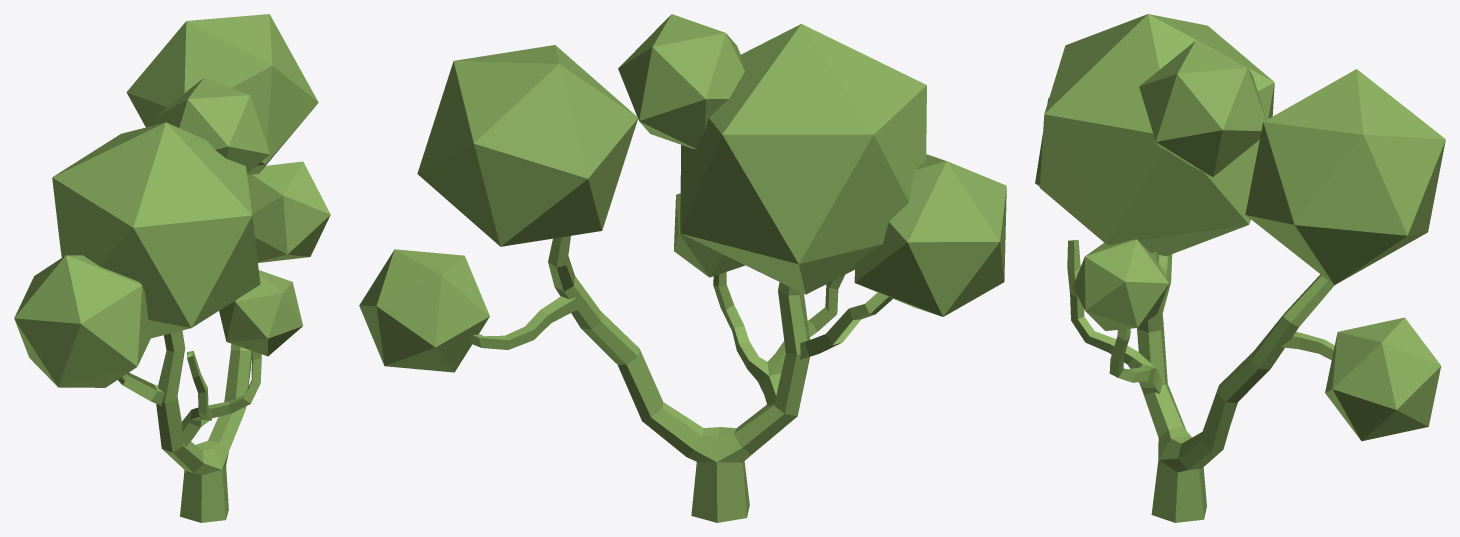
The model's file is arbre.glb.
3 renders of one model, left to right at view 1: azimuth 30°, elevation 25°; view 2: azimuth 150°, elevation 25°; view 3: azimuth 270°, elevation 25°, orthographic. The views are drawn at different scales.
Parts seen in each view (by area): view 1: Default; view 2: Default; view 3: Default.
Boxes of the visible parts, left/top/right/bottom form: Default: left=14, top=14, right=330, bottom=522; Default: left=359, top=14, right=1006, bottom=522; Default: left=1035, top=14, right=1445, bottom=522.
Size of the model in its own units: 27.98 by 26.54 by 20.8.
